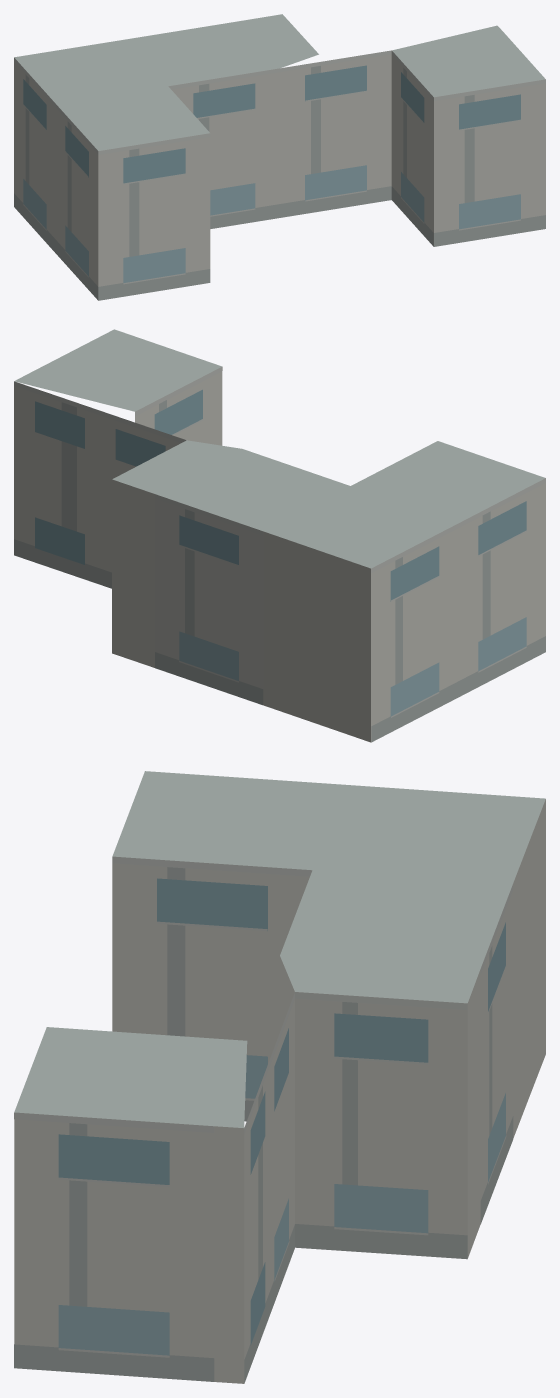
The model's file is residential-709e7b4a-0726-44e8-952e-259b2dfa0536.glb.
3 renders of one model, top to bottom at view 1: azimuth 30°, elevation 25°; view 2: azimuth 150°, elevation 25°; view 3: azimuth 270°, elevation 25°, orthographic. The views are drawn at different scales.
Parts seen in each view (by area): view 1: residential-709e7b4a-0726-44e8-952e-259b2dfa0536.tmp; view 2: residential-709e7b4a-0726-44e8-952e-259b2dfa0536.tmp; view 3: residential-709e7b4a-0726-44e8-952e-259b2dfa0536.tmp.
Boxes of the visible parts, x1,y1,x2,y2 form: residential-709e7b4a-0726-44e8-952e-259b2dfa0536.tmp: (14,14,545,300); residential-709e7b4a-0726-44e8-952e-259b2dfa0536.tmp: (14,329,545,742); residential-709e7b4a-0726-44e8-952e-259b2dfa0536.tmp: (14,771,545,1383).
Size of the model in its own units: 27.41 by 9.15 by 17.25.
